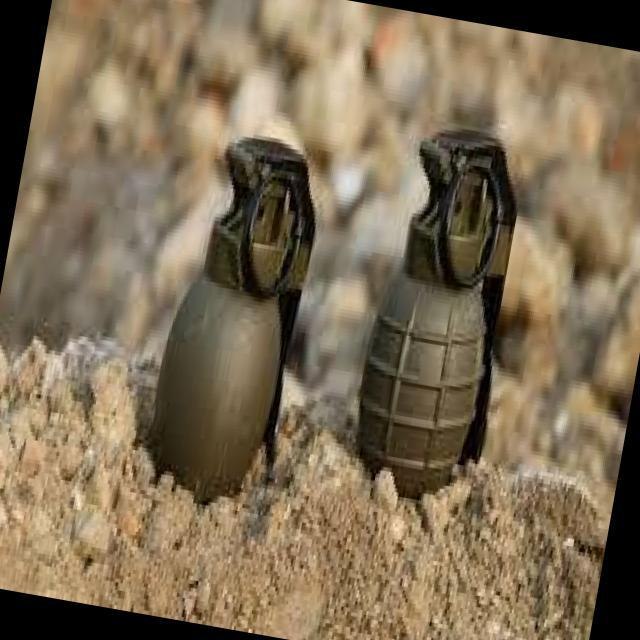grenade: (134, 115, 334, 510), (341, 113, 535, 511)
